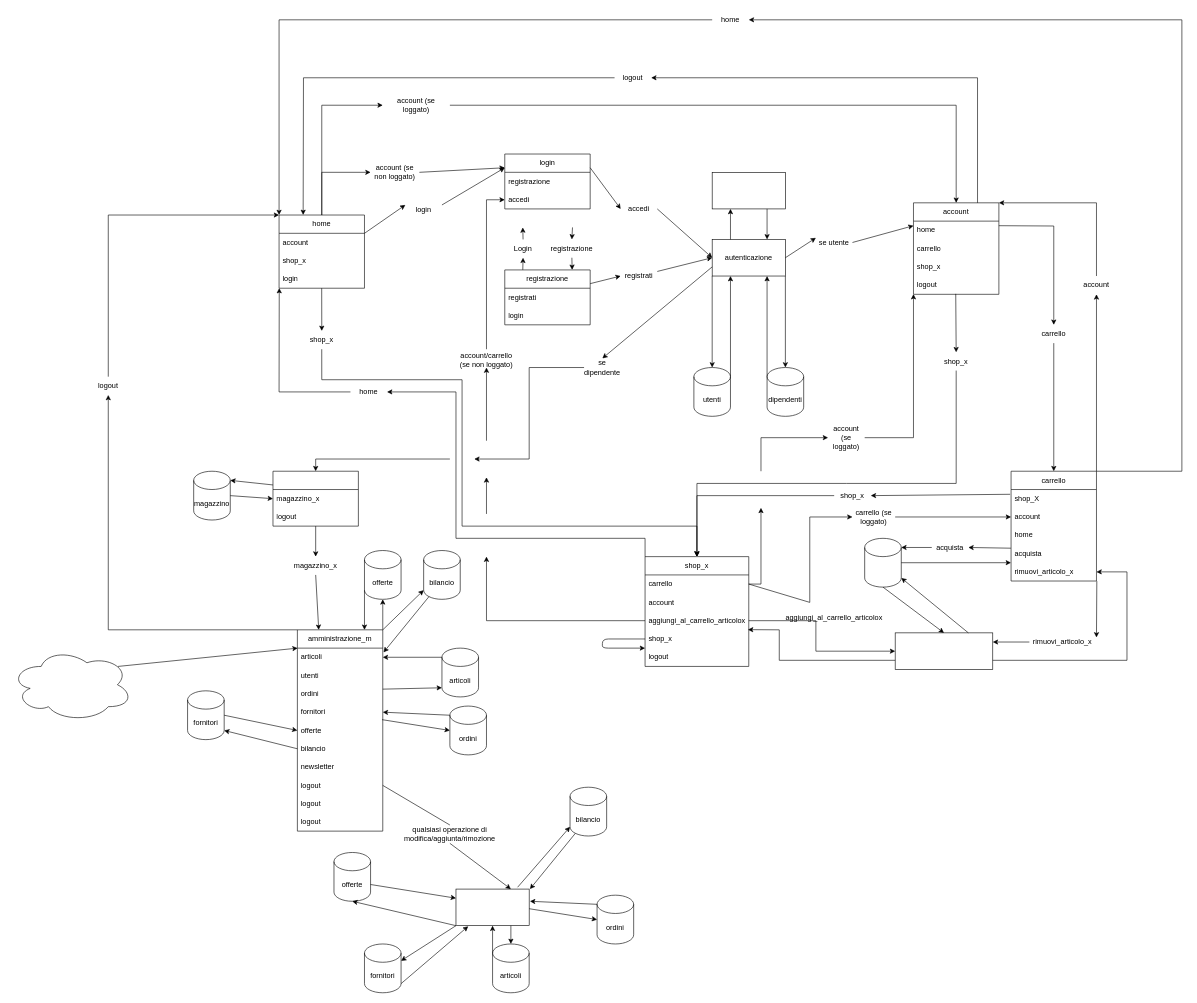
Image size: 1197x1003. Some labels were removed from this diagram. The shapes that lost their labels are listed below. From the top down, each one's box as (x1, y1, x2, y2) in pixels, then its label:
(712, 172, 785, 209): cookie
(272, 471, 358, 526): amministrazione
(864, 538, 901, 587): acquistare
(895, 632, 993, 669): aggiungi_rimuovi_carrello
(10, 648, 133, 721): qualsiasi visualizzazione
(455, 888, 529, 926): functions
